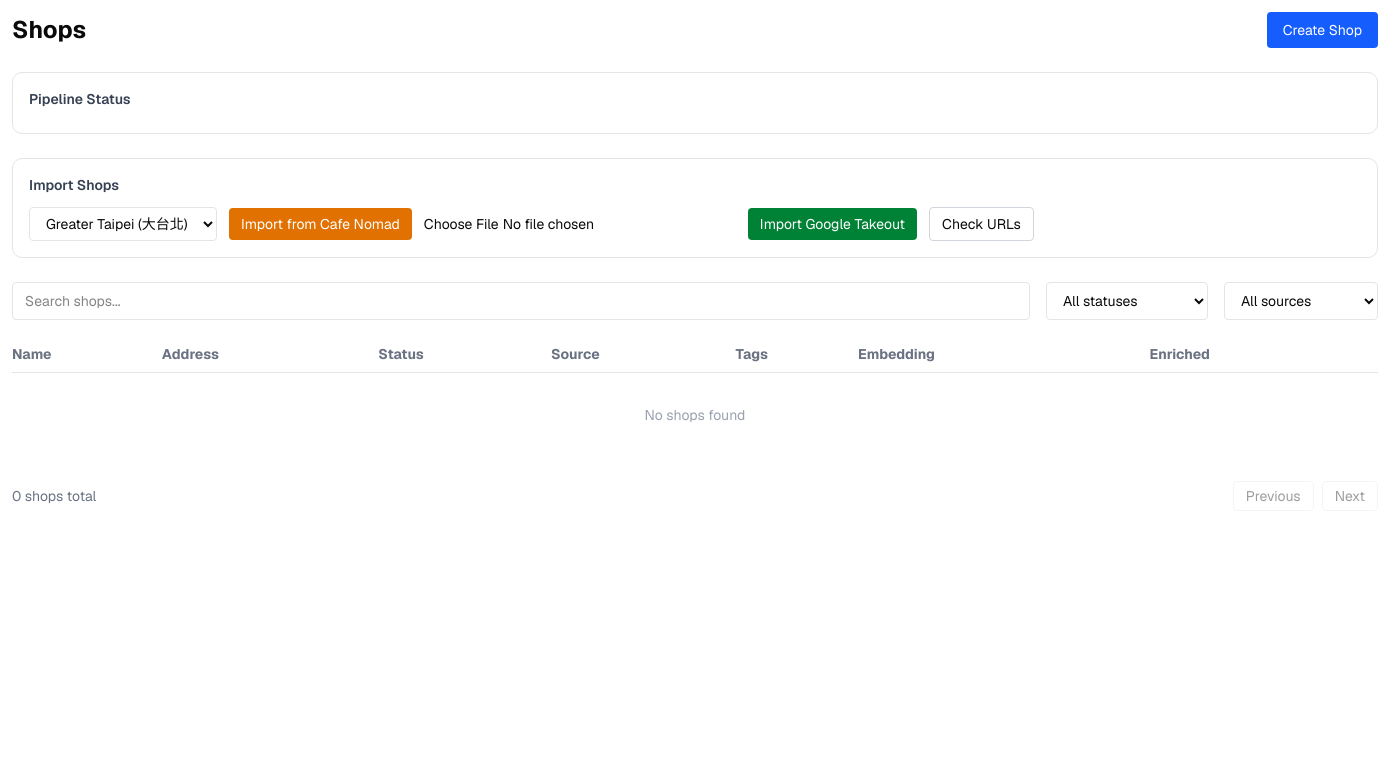
Test: AdminShopsList › shows create shop form when the Create Shop button is clicked
Expected: the heading "Shops" is shown, [12,14,86,46]
Click the button "Create Shop" at [1322, 30], box [1267,12,1378,48]
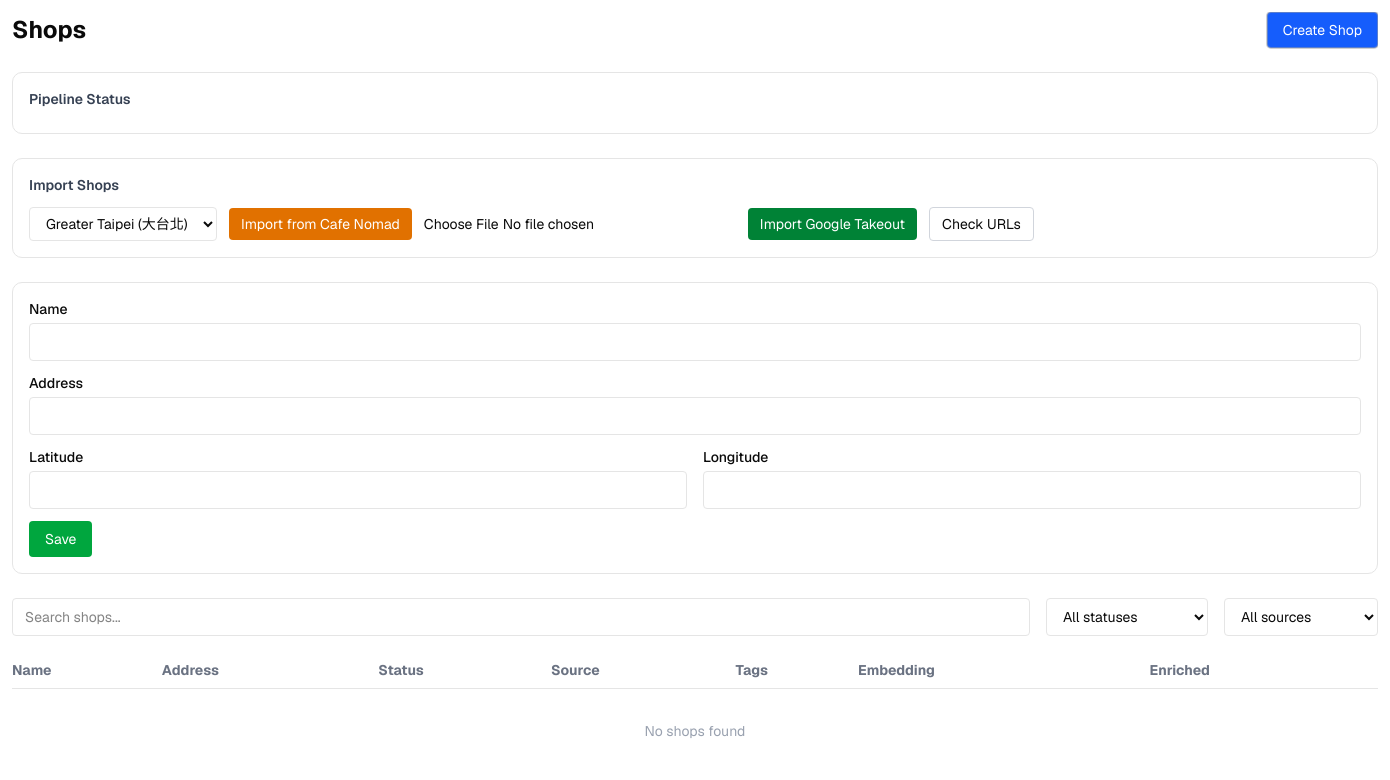
Expected: the field labelled "Name" is shown, [29,323,1361,361]
Expected: the field labelled "Address" is shown, [29,397,1361,435]
Expected: the number field labelled "Latitude" is shown, [29,471,687,509]
